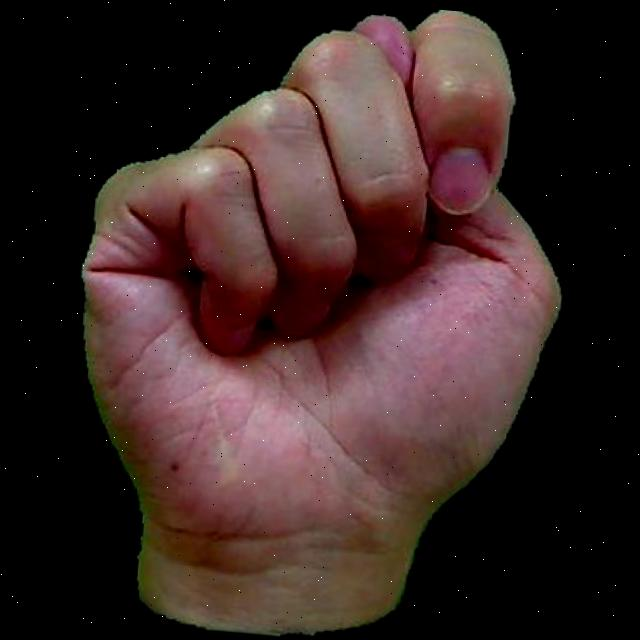t: (35, 0, 588, 640)
